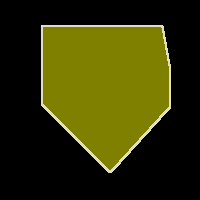tie: (42, 25, 170, 172)
